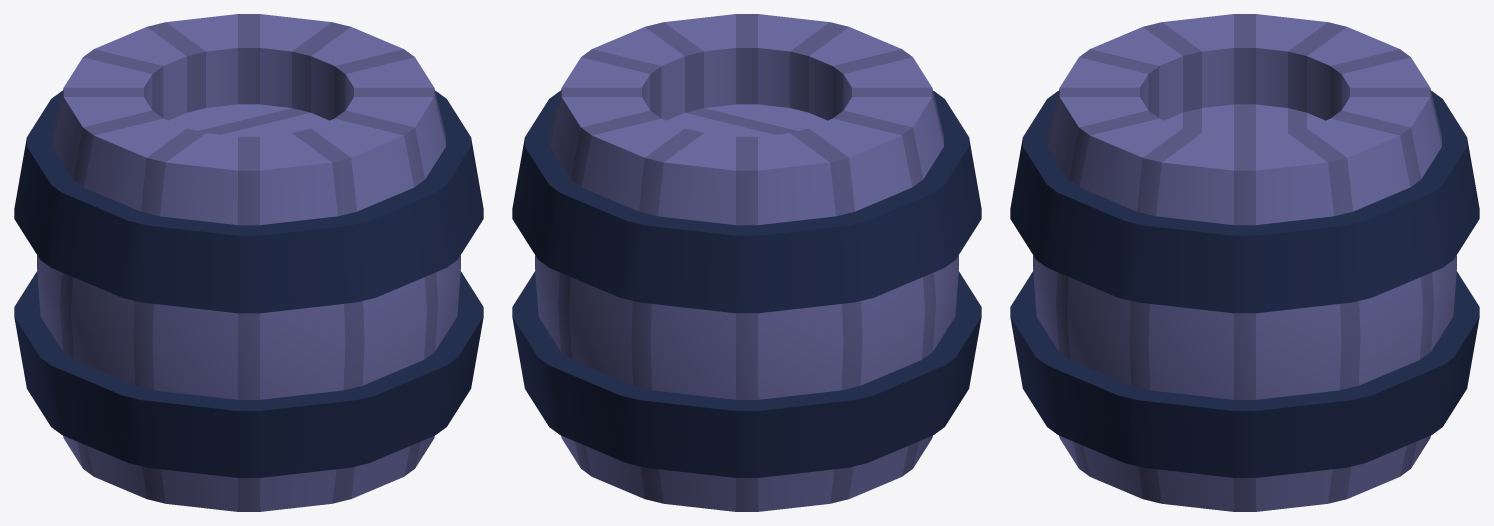
The model's file is Barrel_E.fbx.
The picture shows the model from 3 angles, left to right: view 1: azimuth 30°, elevation 25°; view 2: azimuth 150°, elevation 25°; view 3: azimuth 270°, elevation 25°; orthographic projection.
Visible parts, largest first — view 1: Barrel_E; view 2: Barrel_E; view 3: Barrel_E.
Boxes of the visible parts, x1,y1,x2,y2 form: Barrel_E: (14,14,483,511); Barrel_E: (512,14,981,511); Barrel_E: (1010,14,1479,511).
Size of the model in its own units: 180 by 144 by 180.
